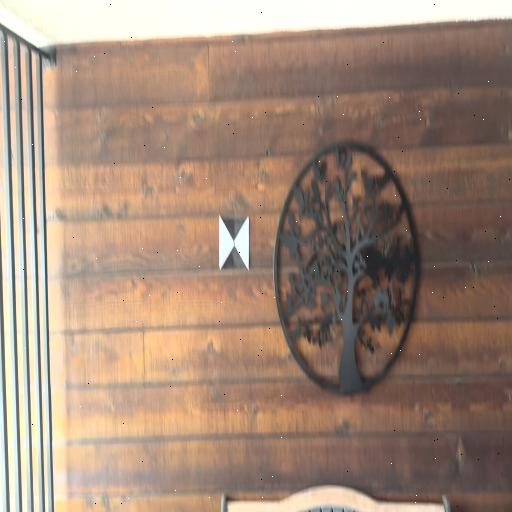target: (219, 215, 249, 271)
